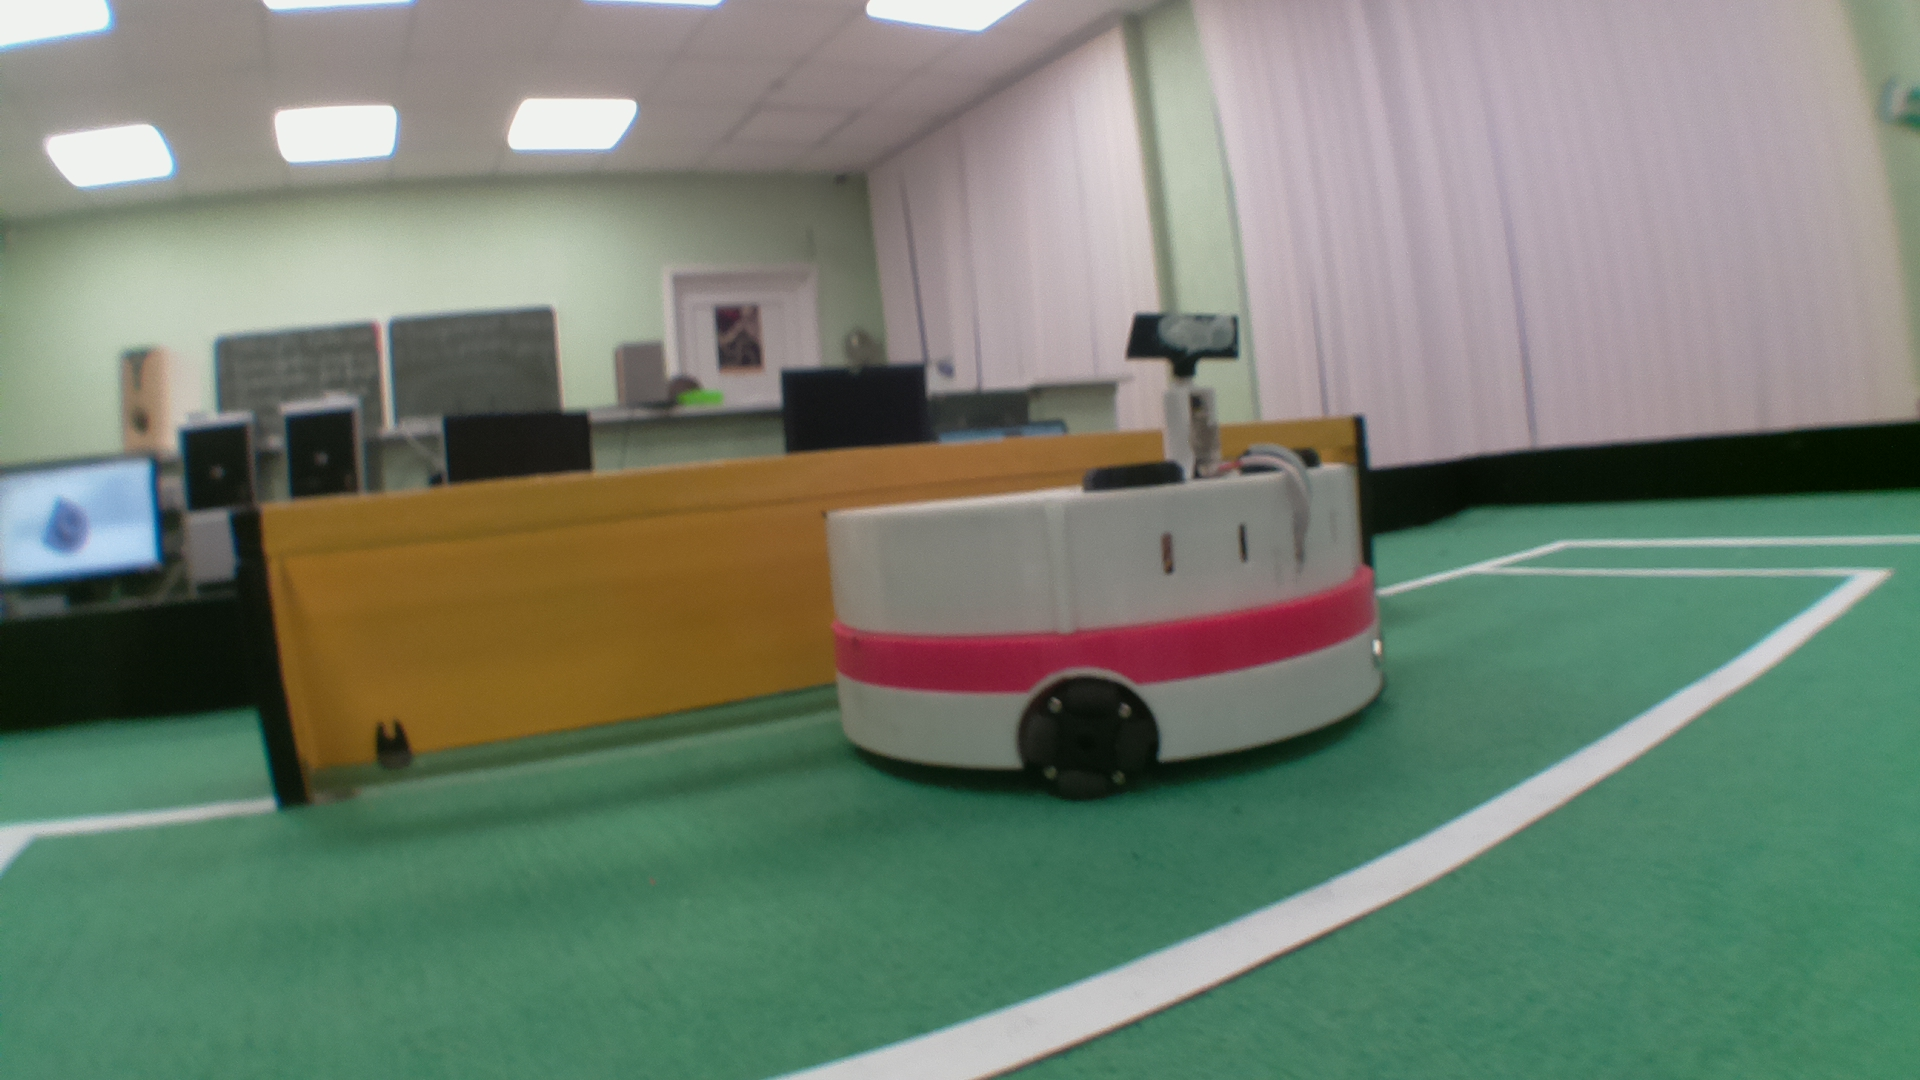YellowGoal: (251, 446, 899, 735)
